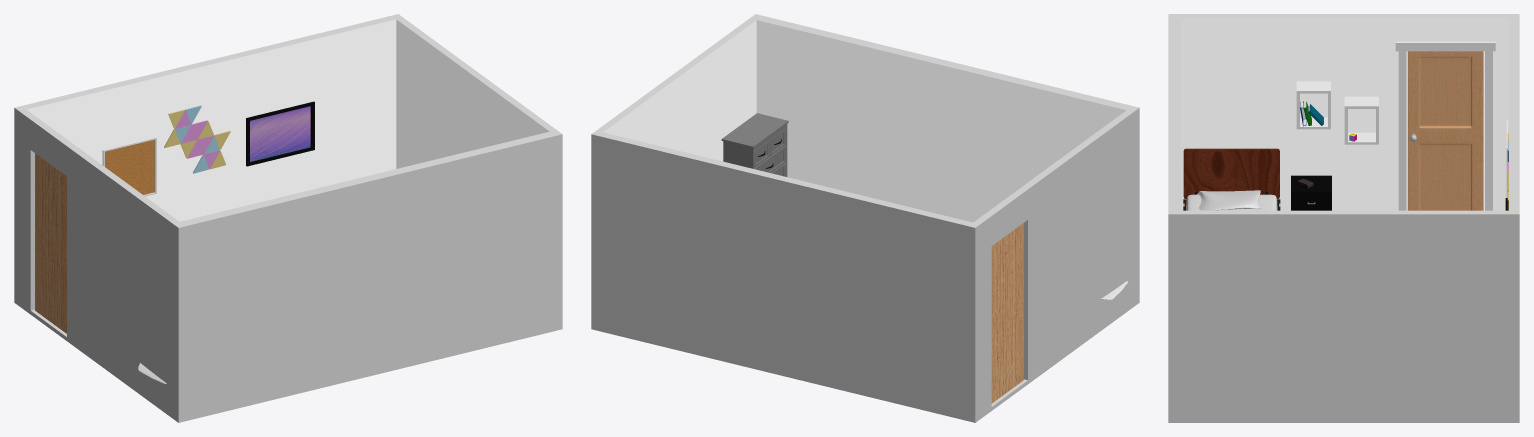
The model's file is room_2_no_roof.glb.
3 views of the same model, side by side, from view 1: azimuth 30°, elevation 25°; view 2: azimuth 150°, elevation 25°; view 3: azimuth 270°, elevation 25° (orthographic). The views are drawn at different scales.
Parts seen in each view (by area): view 1: Cube, Plane, Plane.002, Plane.009, Plane.003; view 2: Cube, Plane, Plane.004, Plane.006, Plane.005; view 3: Cube, Plane, Cube.006, Cube.001, Cube.008, Cube.007, Cube.004.
Part boxes in pixels (x1=…): Cube: x1=14, y1=14, x2=562, y2=422; Plane: x1=35, y1=153, x2=66, y2=333; Plane.002: x1=246, y1=101, x2=314, y2=166; Plane.009: x1=164, y1=105, x2=230, y2=173; Plane.003: x1=102, y1=137, x2=156, y2=196; Cube: x1=591, y1=14, x2=1139, y2=422; Plane: x1=991, y1=223, x2=1023, y2=403; Plane.004: x1=721, y1=113, x2=788, y2=176; Plane.006: x1=754, y1=128, x2=786, y2=168; Plane.005: x1=754, y1=145, x2=786, y2=176; Cube: x1=1168, y1=14, x2=1519, y2=422; Plane: x1=1407, y1=51, x2=1483, y2=210; Cube.006: x1=1183, y1=148, x2=1279, y2=198; Cube.001: x1=1296, y1=81, x2=1378, y2=144; Cube.008: x1=1291, y1=175, x2=1331, y2=210; Cube.007: x1=1197, y1=190, x2=1261, y2=210; Cube.004: x1=1186, y1=194, x2=1277, y2=210.
Bounding box in the file's own units: 205 × 97.84 × 149.
Materials: 34 (7 with a texture image).
